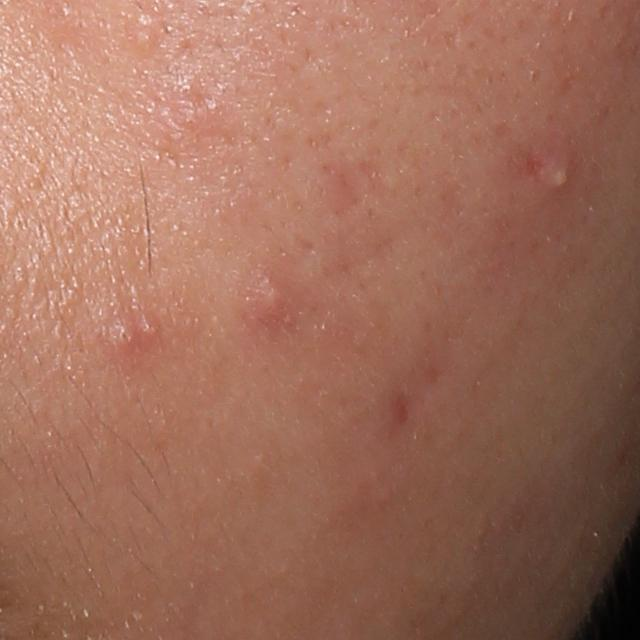papule: (250, 275, 292, 320), (106, 319, 140, 353), (135, 312, 162, 340)
pustule: (546, 158, 579, 196)
